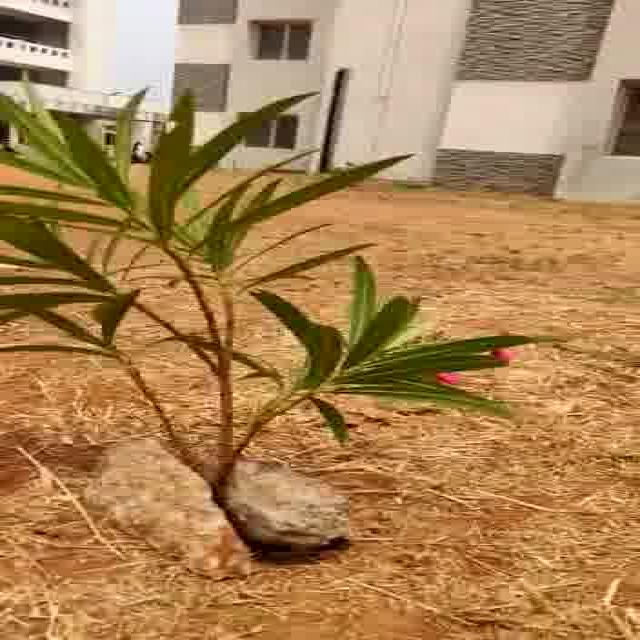OLEANDER: (0, 58, 558, 470)
